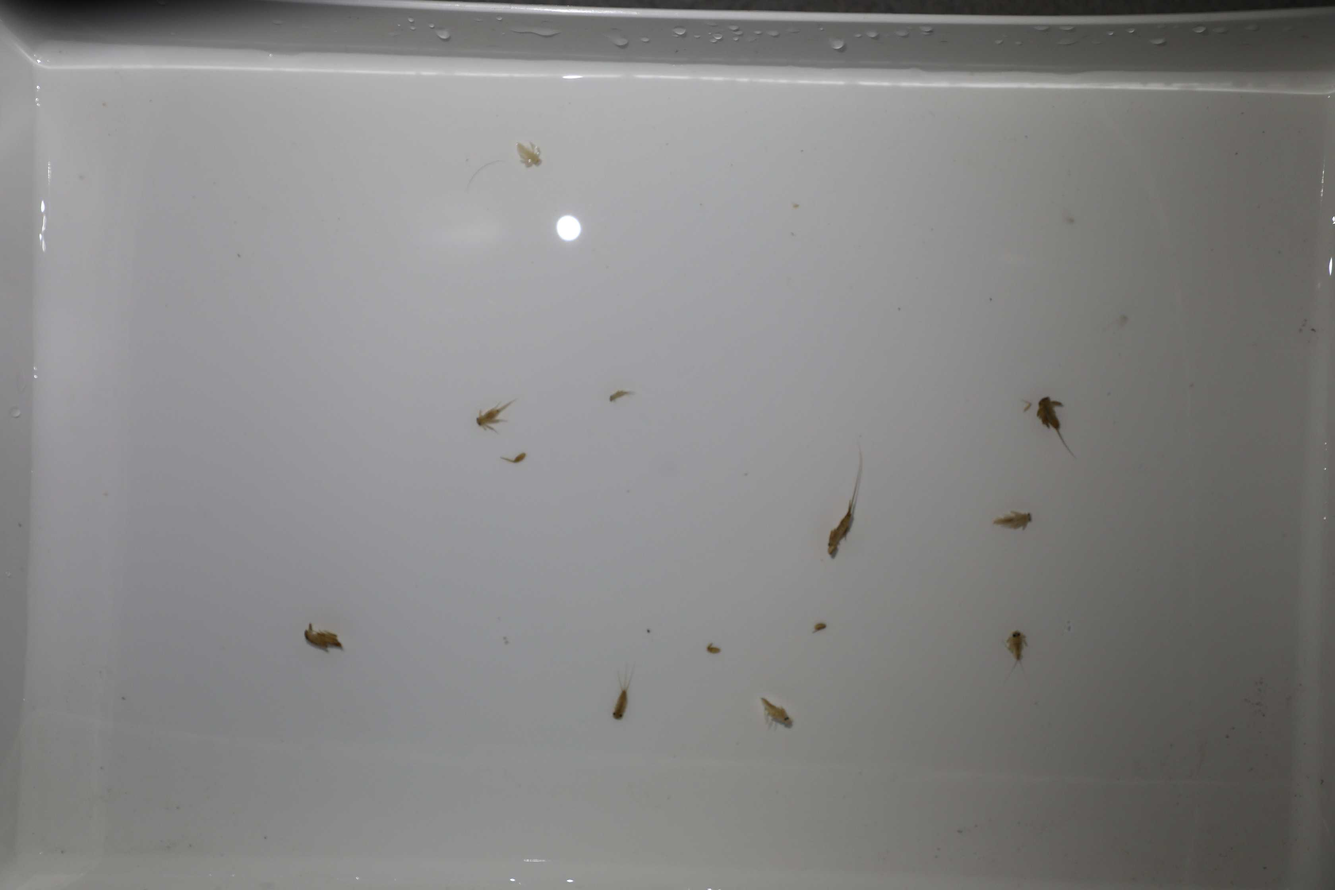Mayfly: (827, 439, 864, 560), (1032, 395, 1078, 464), (755, 692, 798, 731), (992, 502, 1034, 535), (608, 670, 634, 723), (302, 623, 343, 654), (472, 400, 510, 431), (1007, 624, 1030, 669), (515, 140, 543, 172)
